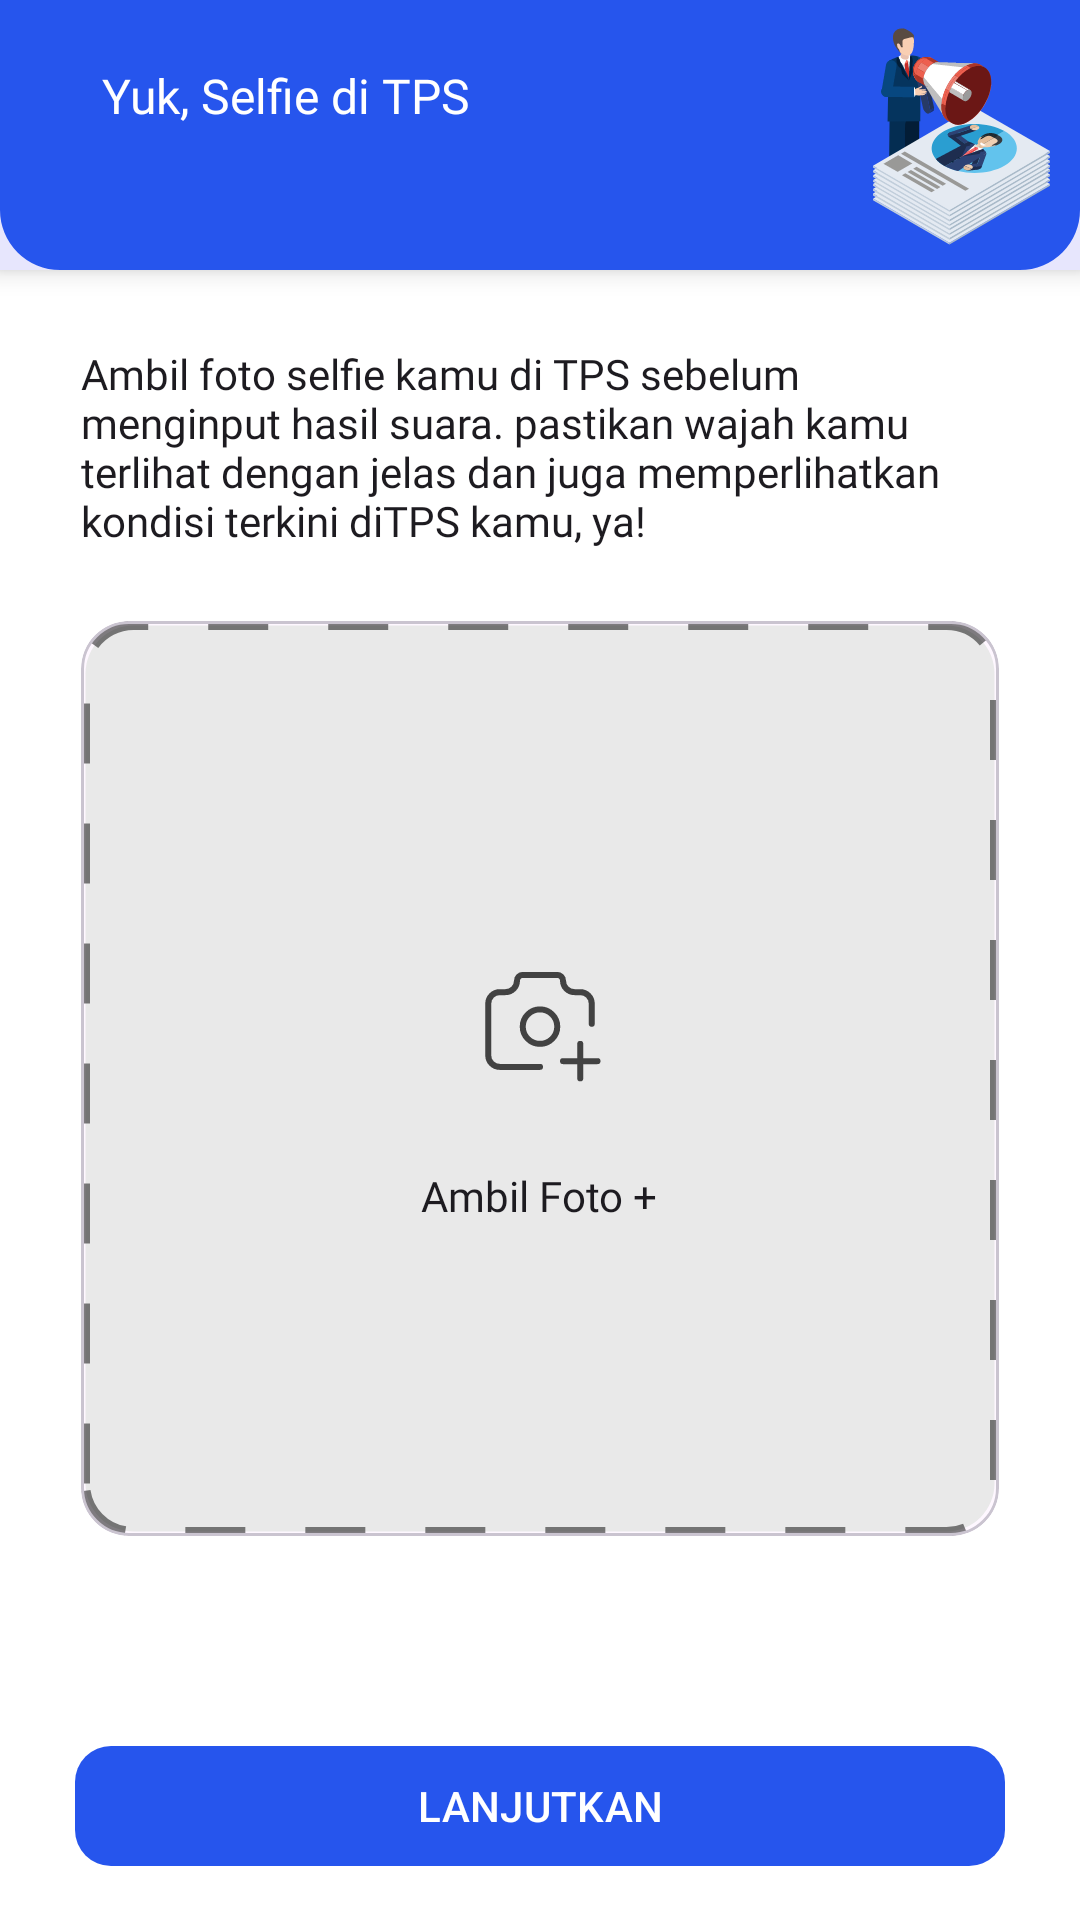

Icon bounding boxes for this 1080w x 1920h phone screenshot, format bbox=(x1, y1, x2, y2):
camera plus: bbox=(485, 972, 601, 1082)
